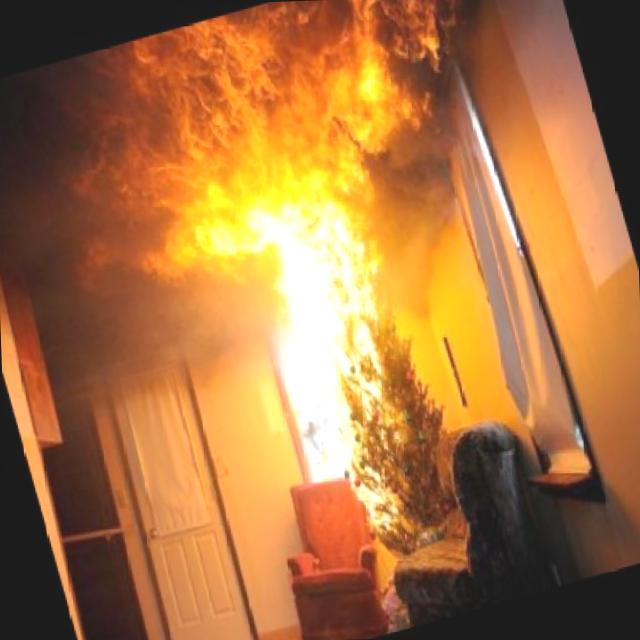fire: (7, 0, 584, 613)
